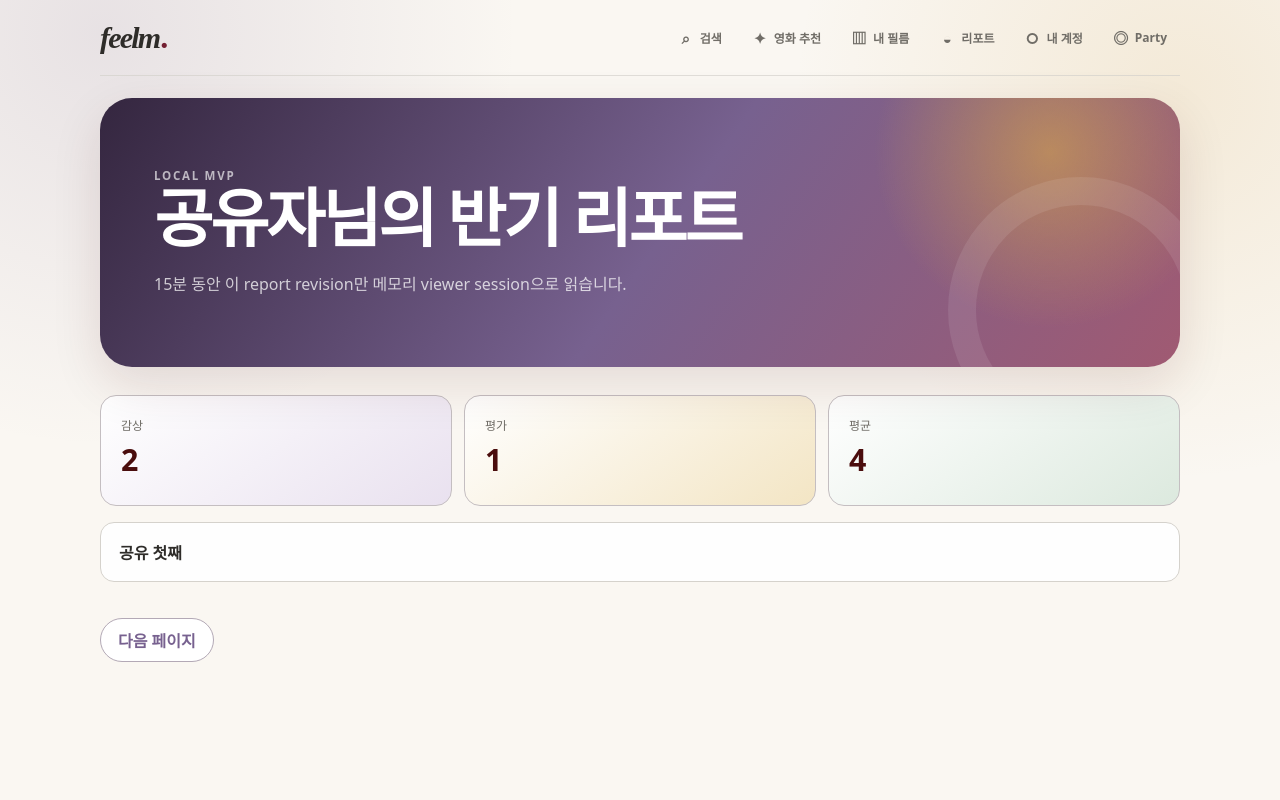
C5 local report/profile vertical › shared entry는 hash를 선제 제거하고 body exchange 후 15m memory session으로 pagination한다
This screenshot has width=1280, height=800.
Expected: the text "공유 첫째" is shown, [119,540,182,564]
Click the button "다음 페이지" at (157, 640), box [100,618,214,662]
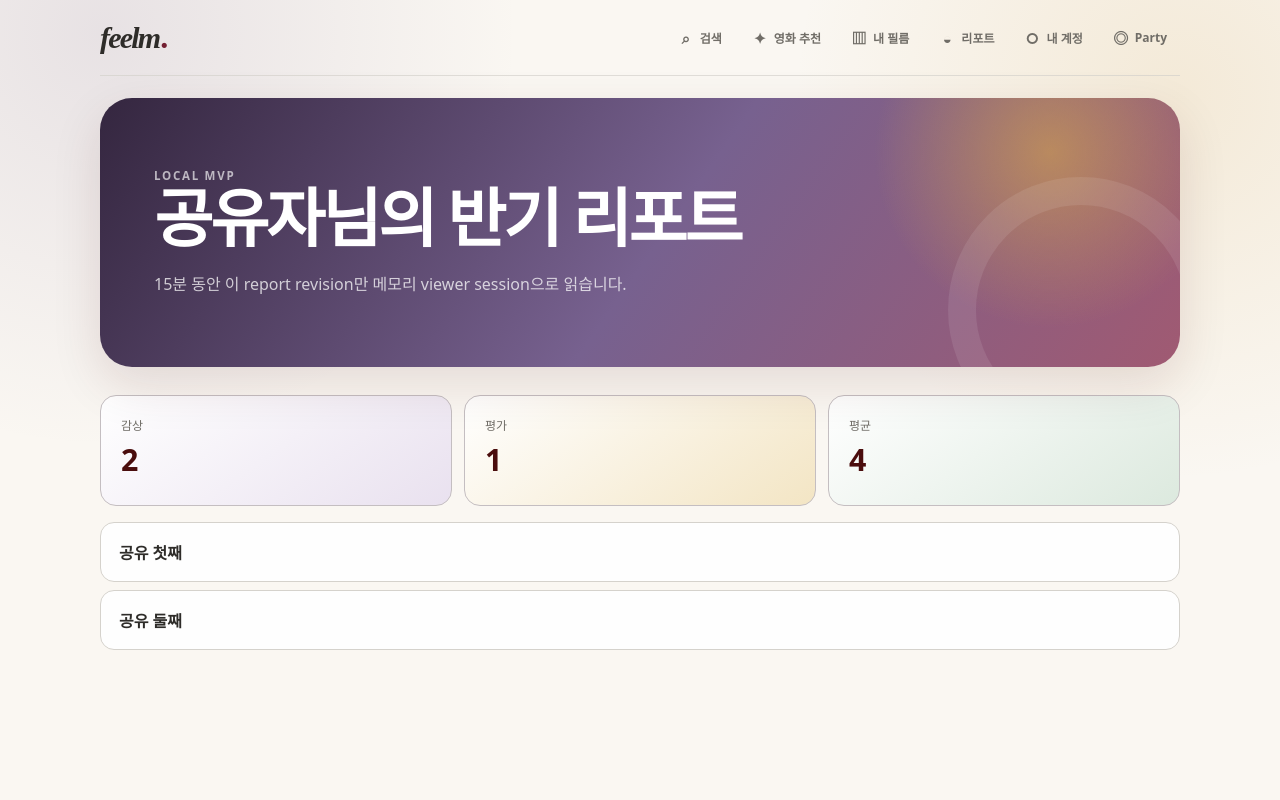
Expected: the text "공유 첫째" is shown, [119,540,182,564]
Now the text "공유 둘째" is shown, box [119,608,182,632]
